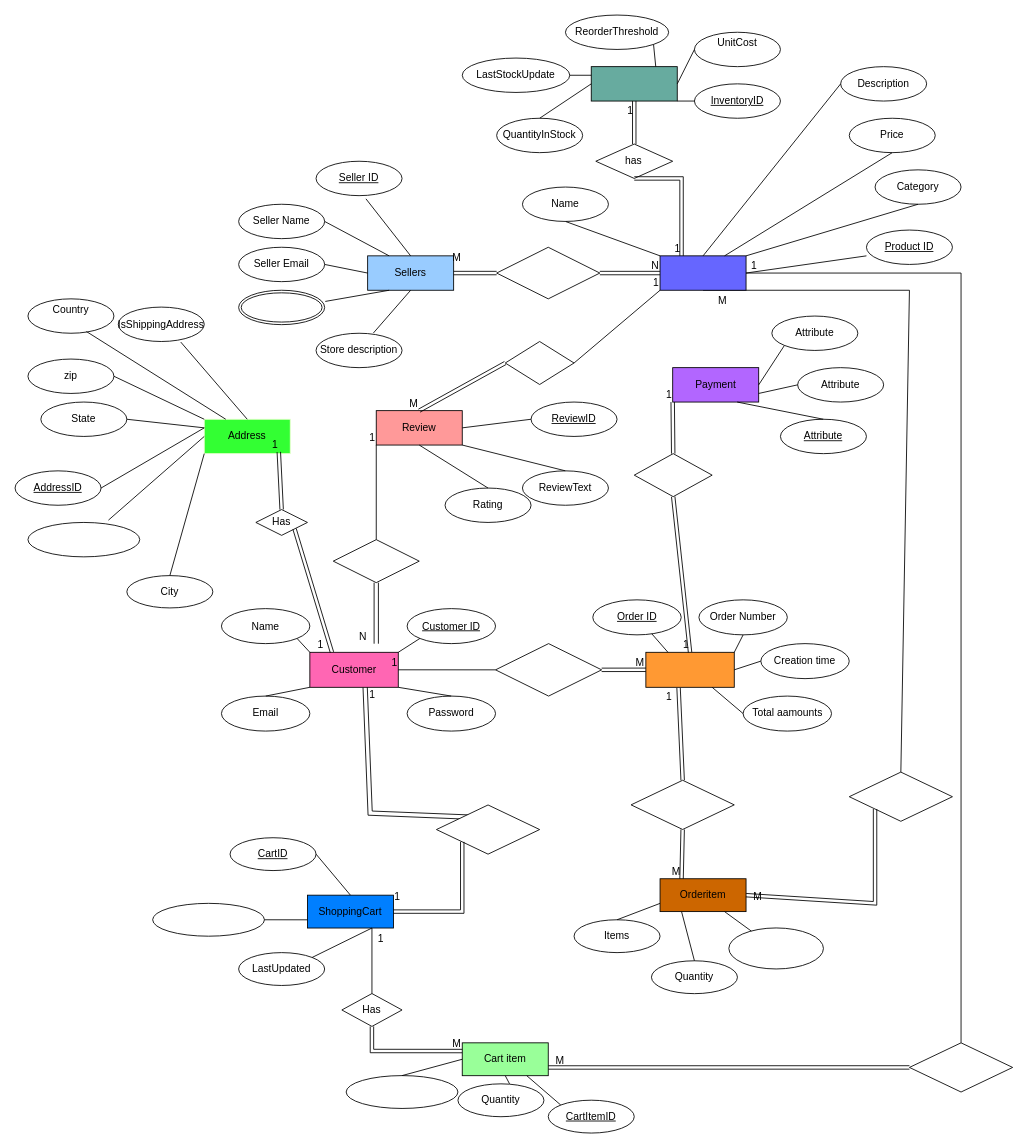
The diagram is 1028 pixels wide and 1148 high, and some of its shapes have lost their labels. Here are the shapes that lost their labels. From the top down, the centre of each, then its label:
At pixel 633 83: "Inventory".
At pixel 548 272: "Adds".
At pixel 702 272: "Product".
At pixel 281 307: "Contact numer".
At pixel 539 363: "Receives".
At pixel 672 475: "Paysfor".
At pixel 83 539: "IsBillingAddress".
At pixel 375 561: "Writes".
At pixel 548 669: "Places".
At pixel 689 669: "Order".
At pixel 682 804: "Contains".
At pixel 900 796: "Includes".
At pixel 488 829: "Owns".
At pixel 208 919: "CreationTimestamp".
At pixel 775 948: "OrderIteTrackingI".
At pixel 961 1067: "Refers to".
At pixel 401 1091: "AddedTimestamp".
